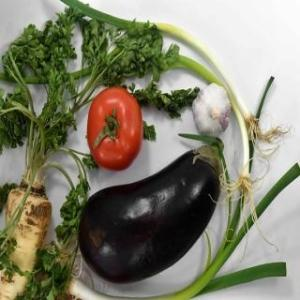eggplant: (77, 147, 224, 282)
garlic: (193, 82, 231, 136)
tomato: (88, 86, 142, 170)
